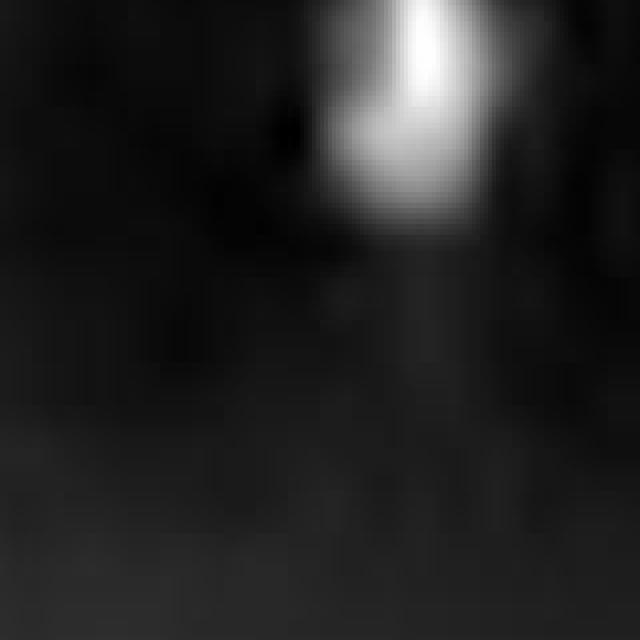person: (321, 1, 517, 294)
